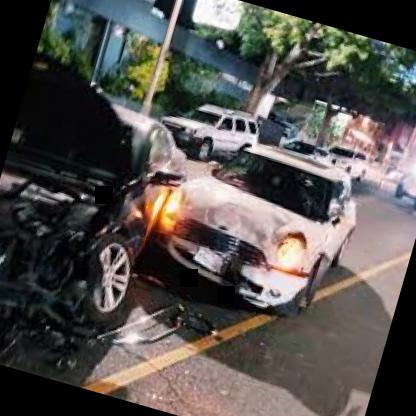accident: (0, 13, 351, 416)
